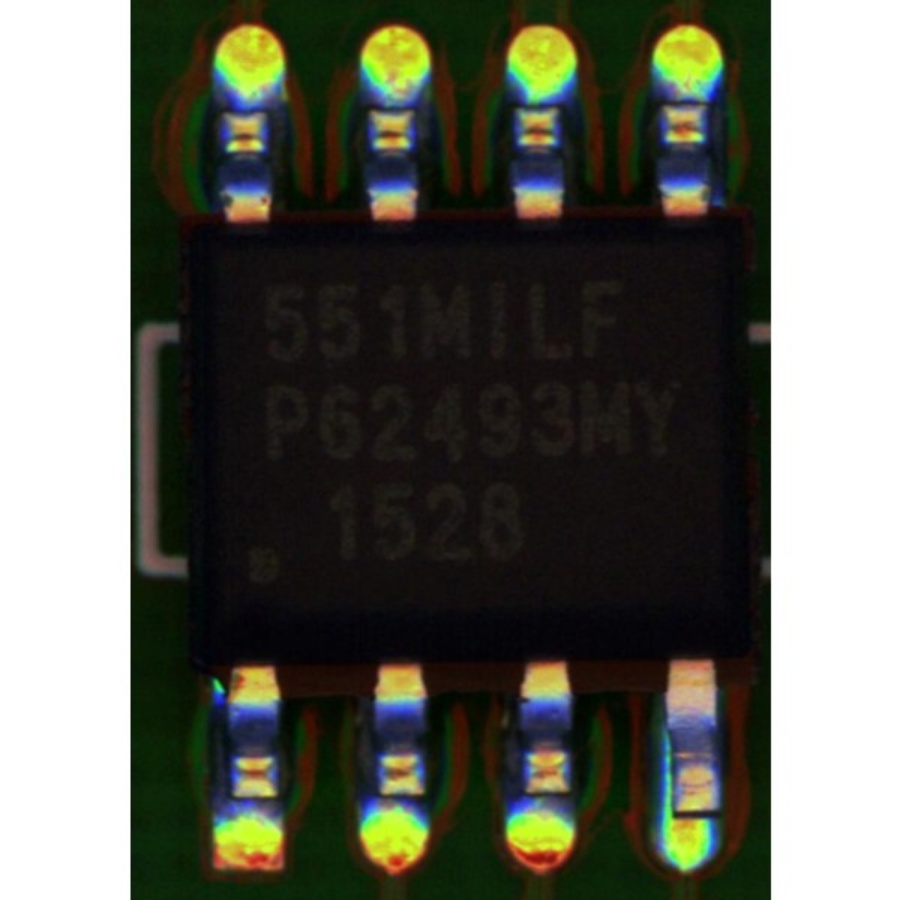Bad_podu: (672, 799, 711, 832)
Bad_qiaojiao: (662, 724, 673, 810)
